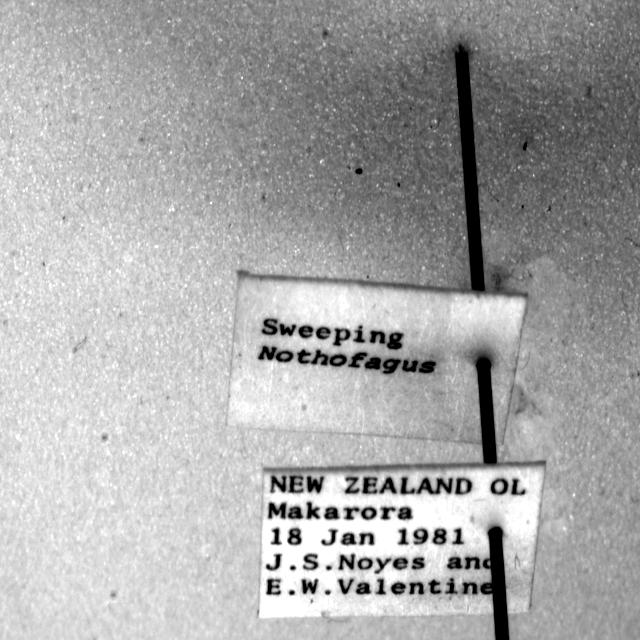typed_label: (228, 272, 526, 442), (259, 463, 545, 617)
